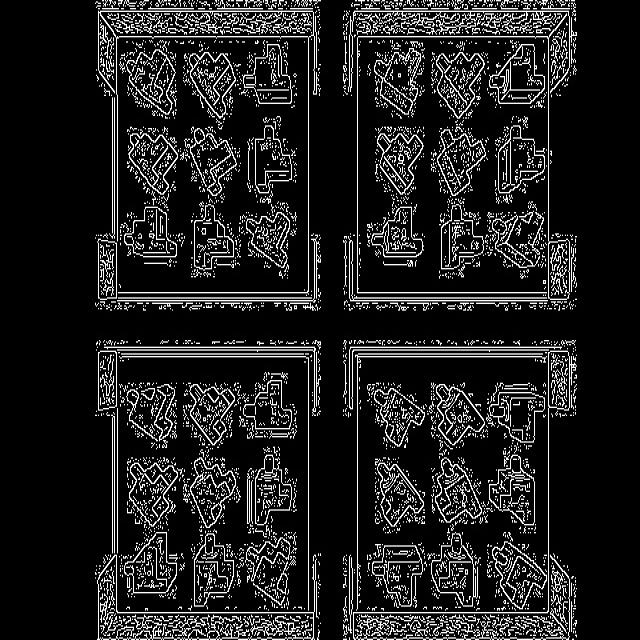Sensor: (184, 43, 240, 128), (495, 117, 546, 203), (181, 127, 239, 202), (239, 202, 296, 278), (488, 202, 545, 278), (119, 42, 176, 117), (368, 42, 424, 118), (184, 452, 240, 528), (431, 43, 486, 120), (492, 533, 546, 610), (248, 118, 296, 203), (248, 447, 296, 532), (431, 123, 486, 197), (128, 127, 176, 210), (432, 457, 488, 527), (368, 543, 426, 608), (246, 534, 296, 608), (240, 372, 296, 438), (376, 458, 425, 533), (128, 458, 181, 527), (431, 383, 484, 452), (369, 383, 425, 448), (184, 383, 240, 447), (120, 385, 176, 448), (431, 533, 478, 607), (440, 198, 484, 277), (489, 43, 545, 105), (368, 205, 424, 267), (489, 383, 545, 445), (376, 129, 424, 200), (192, 203, 238, 277), (125, 532, 178, 595), (489, 455, 534, 527), (242, 43, 292, 105), (124, 207, 178, 263), (194, 532, 234, 607)
